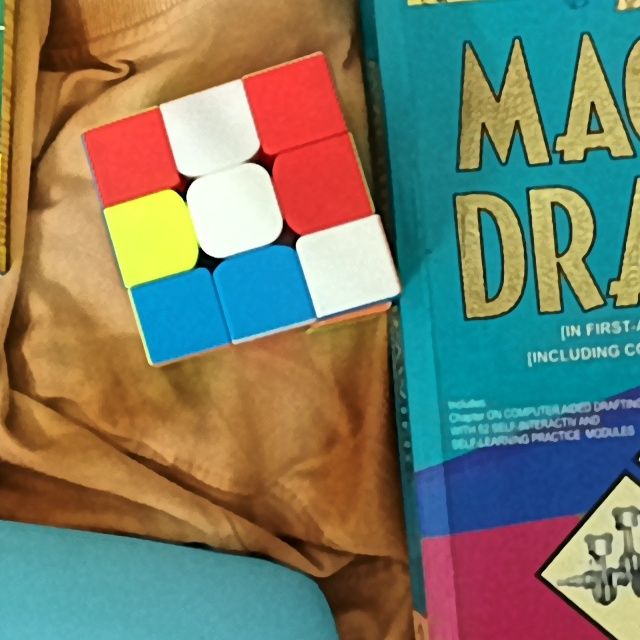tile: (289, 151, 358, 217), (263, 73, 327, 135), (202, 181, 268, 240), (150, 284, 214, 344), (100, 127, 163, 187), (177, 102, 244, 158), (323, 235, 381, 296), (124, 208, 183, 265), (232, 262, 289, 319)
